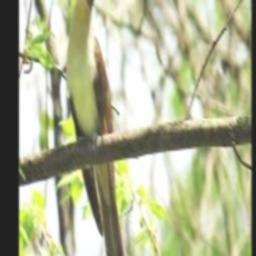Cuckoo: (66, 0, 129, 256)
